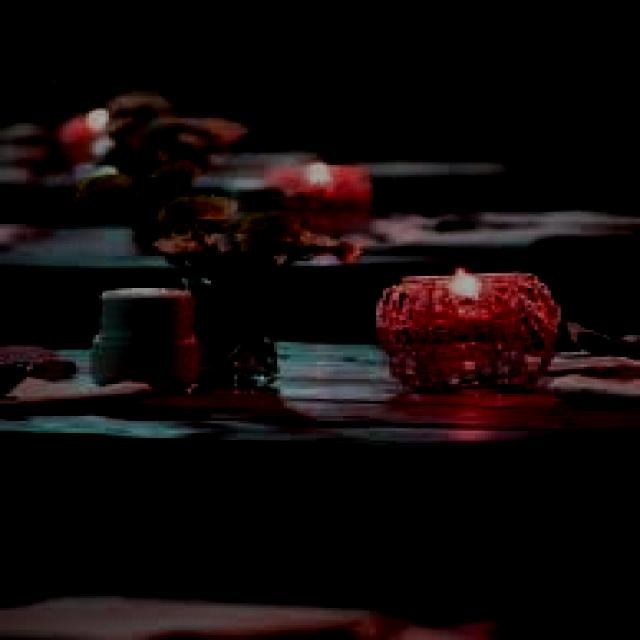fire: (442, 256, 488, 300)
